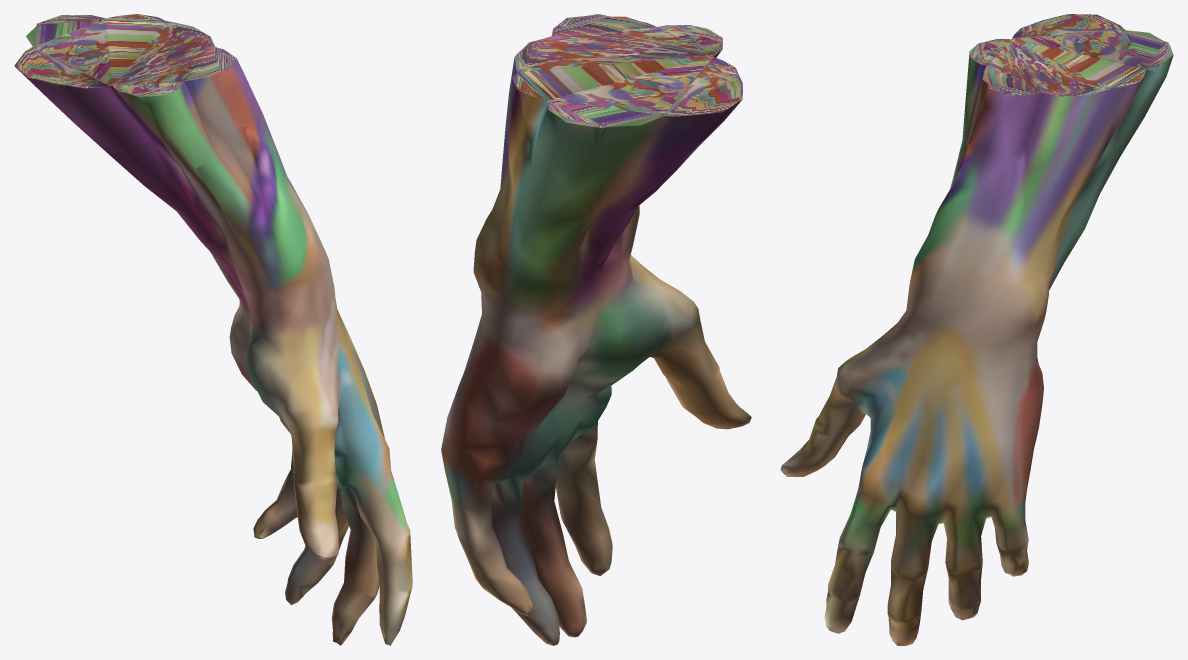
File: derived-anatomy-left-forearm.glb
The picture shows the model from 3 angles, left to right: view 1: azimuth 30°, elevation 25°; view 2: azimuth 150°, elevation 25°; view 3: azimuth 270°, elevation 25°; orthographic projection. The views are drawn at different scales.
Visible parts, largest first — view 1: derived-anatomy-left-forearm; view 2: derived-anatomy-left-forearm; view 3: derived-anatomy-left-forearm.
Part boxes in pixels (bbox=[...]): derived-anatomy-left-forearm: bbox=[14, 14, 412, 645]; derived-anatomy-left-forearm: bbox=[441, 14, 751, 645]; derived-anatomy-left-forearm: bbox=[780, 14, 1173, 645].
Bounding box in the file's own units: 0.1579 × 0.3016 × 0.2033.
1 material, 1 textured.
